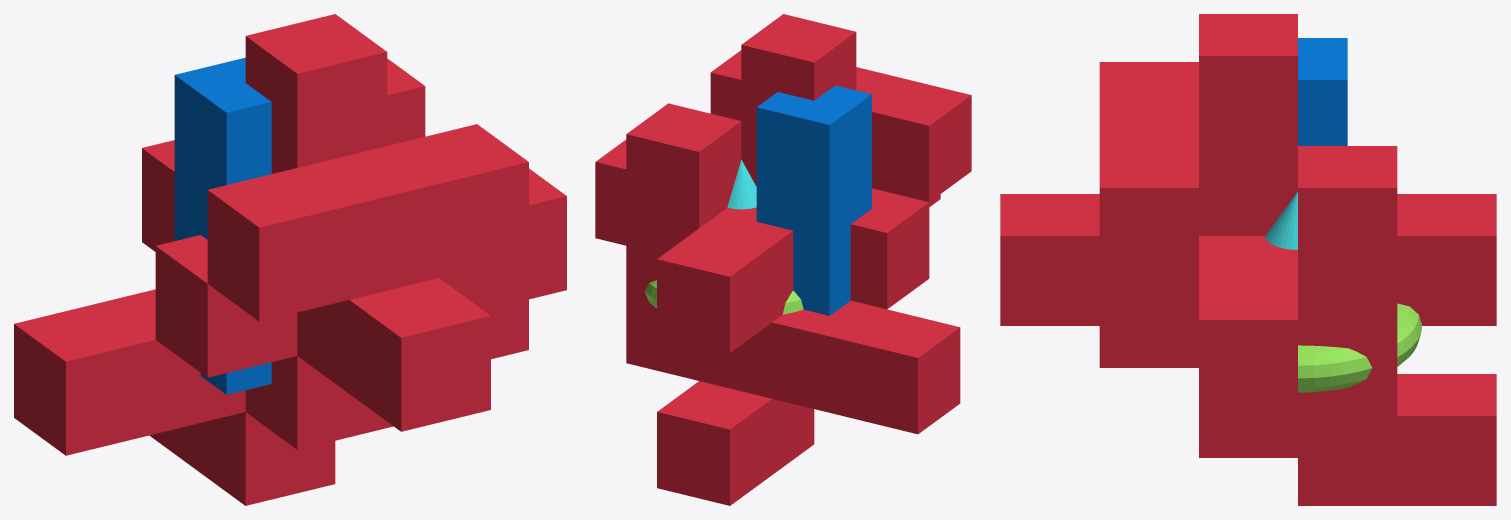
3 renders of one model, left to right at view 1: azimuth 30°, elevation 25°; view 2: azimuth 150°, elevation 25°; view 3: azimuth 270°, elevation 25°, orthographic. The views are drawn at different scales.
Parts seen in each view (by area): view 1: Random, Cube; view 2: Random, Cube, Cone, Torus; view 3: Random, Cube, Torus, Cone.
Boxes of the visible parts, x1=… form: Random: x1=14, y1=14, x2=566, y2=505; Cube: x1=174, y1=57, x2=271, y2=394; Random: x1=595, y1=14, x2=971, y2=505; Cube: x1=756, y1=85, x2=871, y2=315; Cone: x1=727, y1=160, x2=756, y2=209; Torus: x1=644, y1=280, x2=803, y2=314; Random: x1=1000, y1=14, x2=1496, y2=505; Cube: x1=1298, y1=38, x2=1347, y2=145; Torus: x1=1298, y1=303, x2=1422, y2=392; Cone: x1=1265, y1=191, x2=1297, y2=249.
Size of the model in its own units: 500 by 500 by 500.
